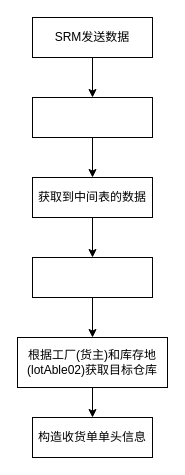
Some shapes in this 185 by 475 pixel diagram are drawn without their labels. The box of each missing label's shape, as (x1, y1, x2, y2) in pixels:
保存到中间表: (32, 96, 152, 138)
将数据根据receiptKey分组处理: (32, 256, 152, 298)
